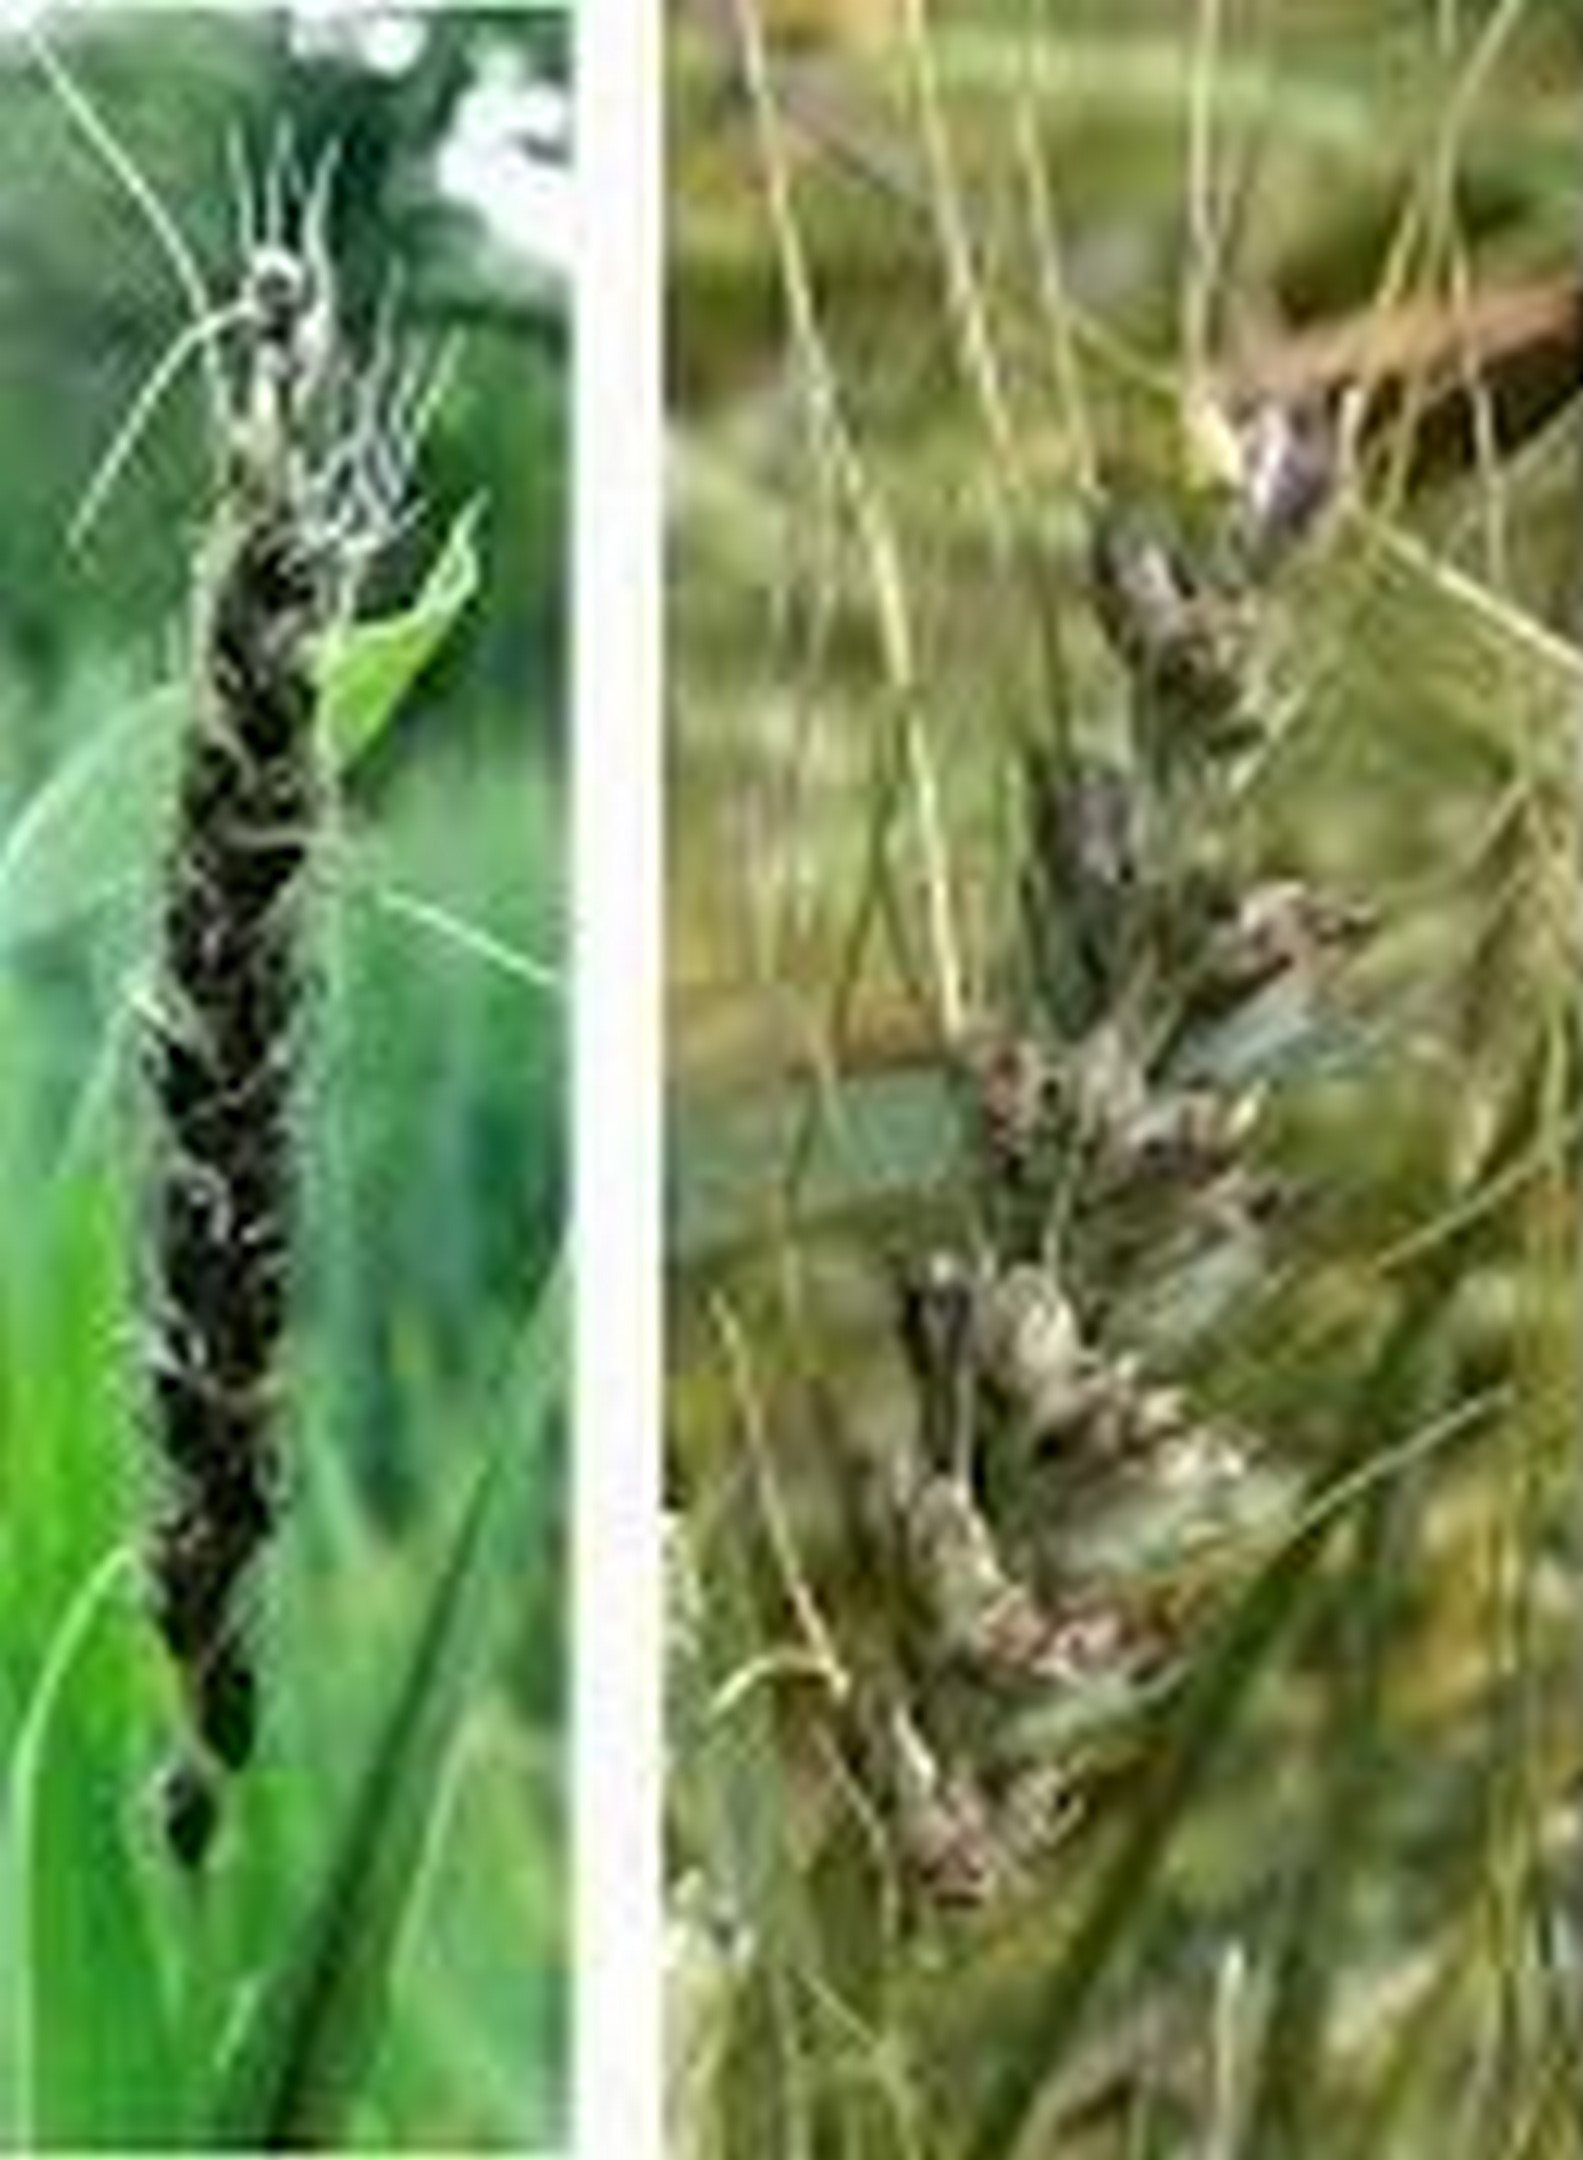Wheat Loose Smut: (62, 431, 350, 1716)
